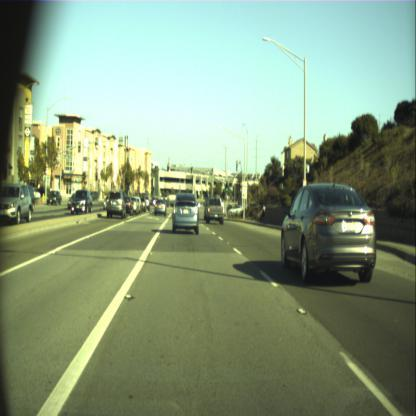Green: (225, 181, 228, 192), (190, 166, 192, 174)
RedLeft: (167, 162, 169, 171)
